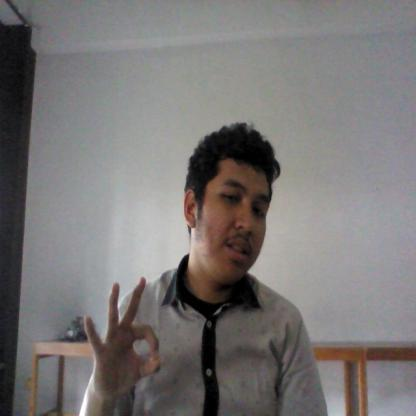O: (76, 273, 174, 402)
